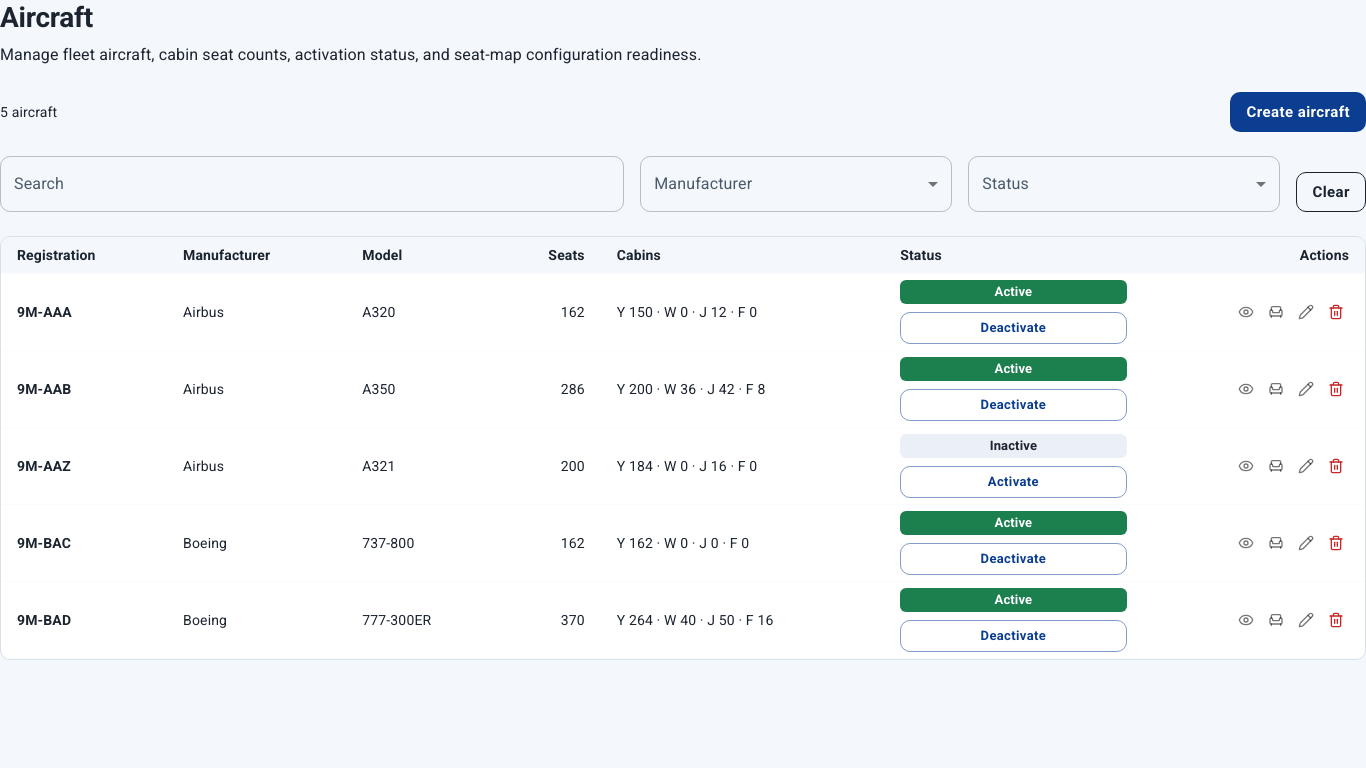
Scenario: AdminAircraftPage › edits an aircraft and can cancel the dialog
The image size is (1366, 768).
Check: the text "9M-AAA" is shown, box 17,304 -> 72,320
Click the button named "Edit 9M-AAA" at (1306, 312), box 1293,299 -> 1319,325
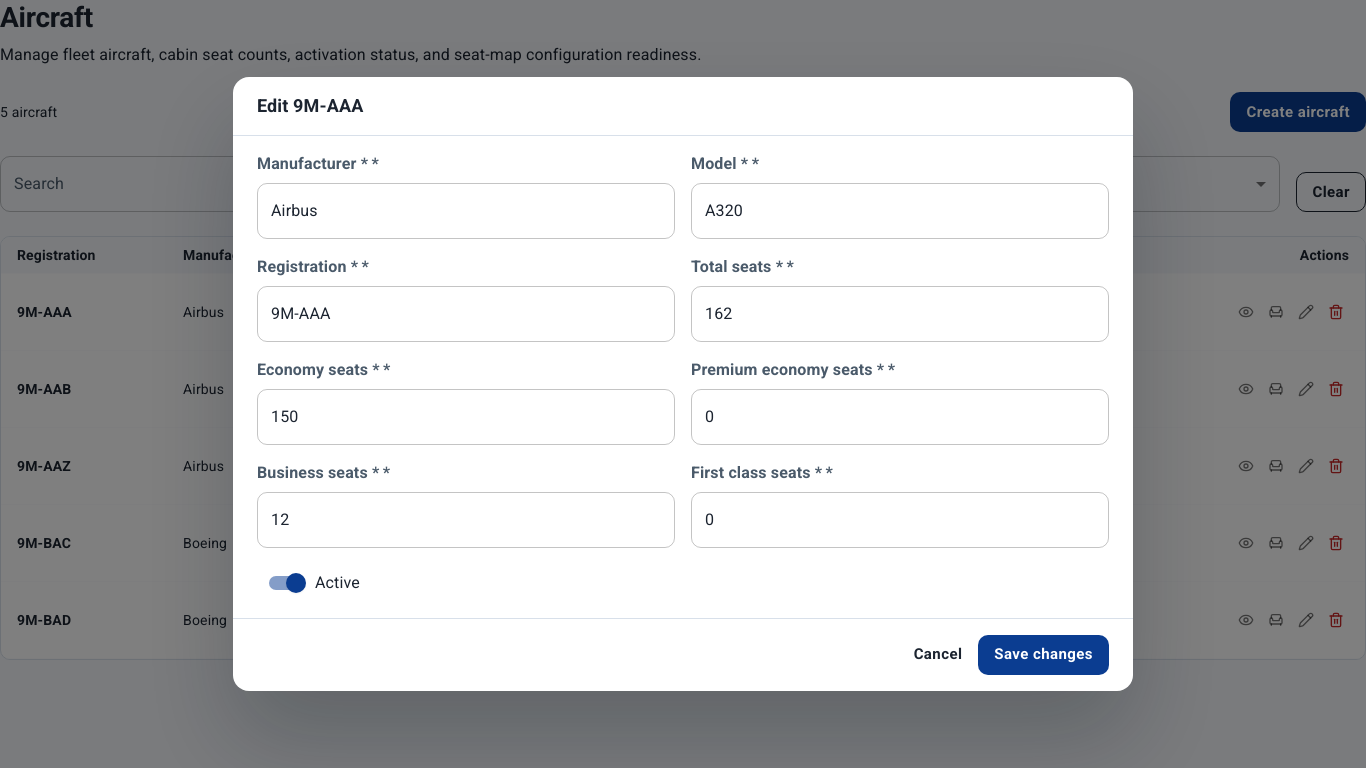
Check: the heading "Edit 9M-AAA" is shown, box 257,95 -> 363,116
Type "A320neo" into the field with placeholder "A320" at (900, 211), box 691,183 -> 1109,239
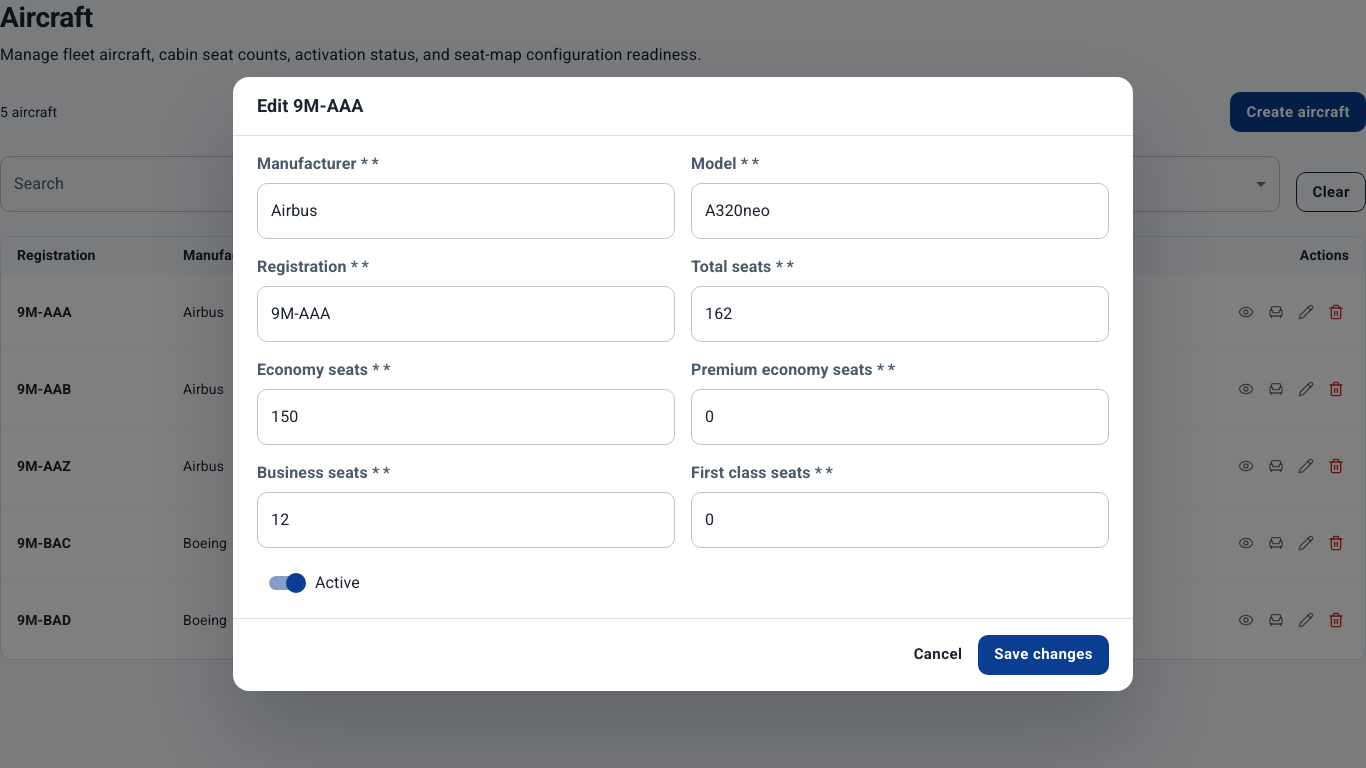
Click the button "Save changes" at (1044, 655), box 978,635 -> 1109,675
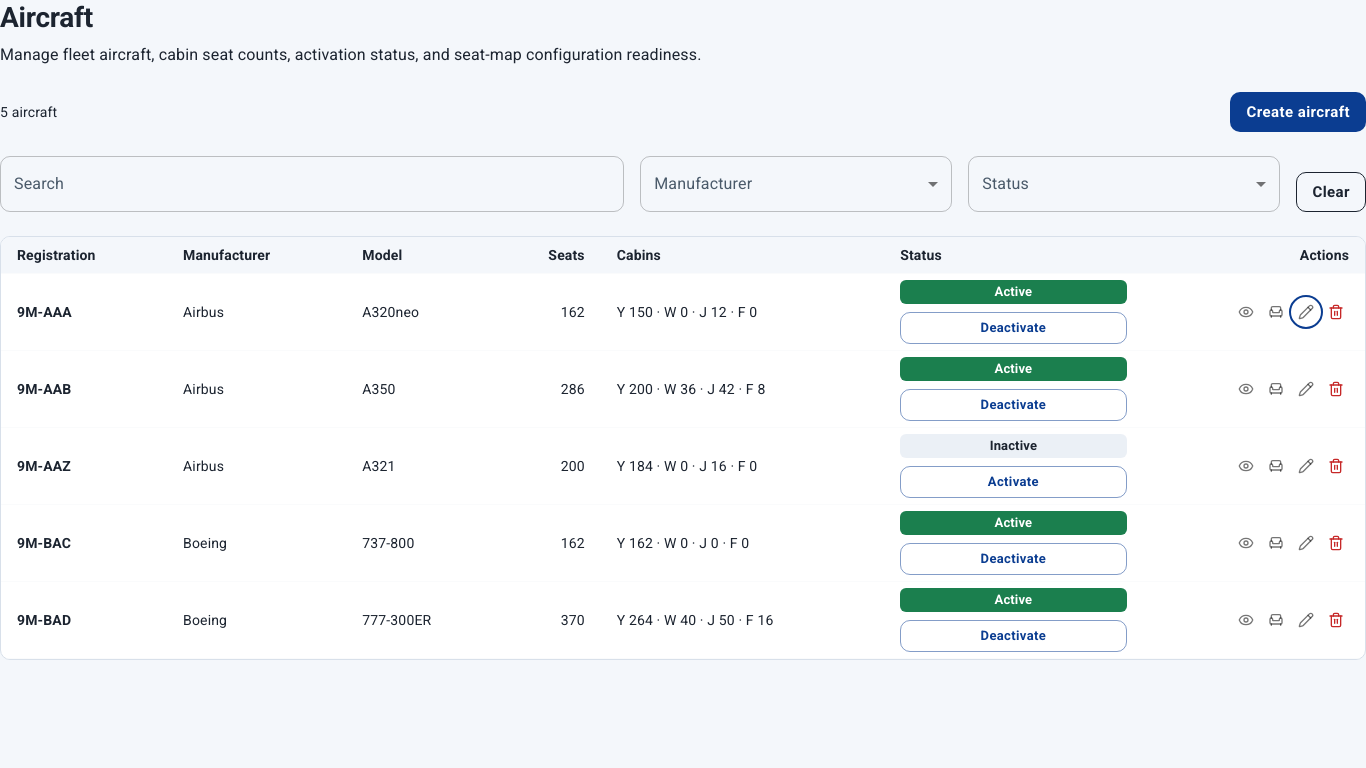
Check: the dialog is gone
Click the button named "Edit 9M-AAA" at (1306, 312), box 1293,299 -> 1319,325
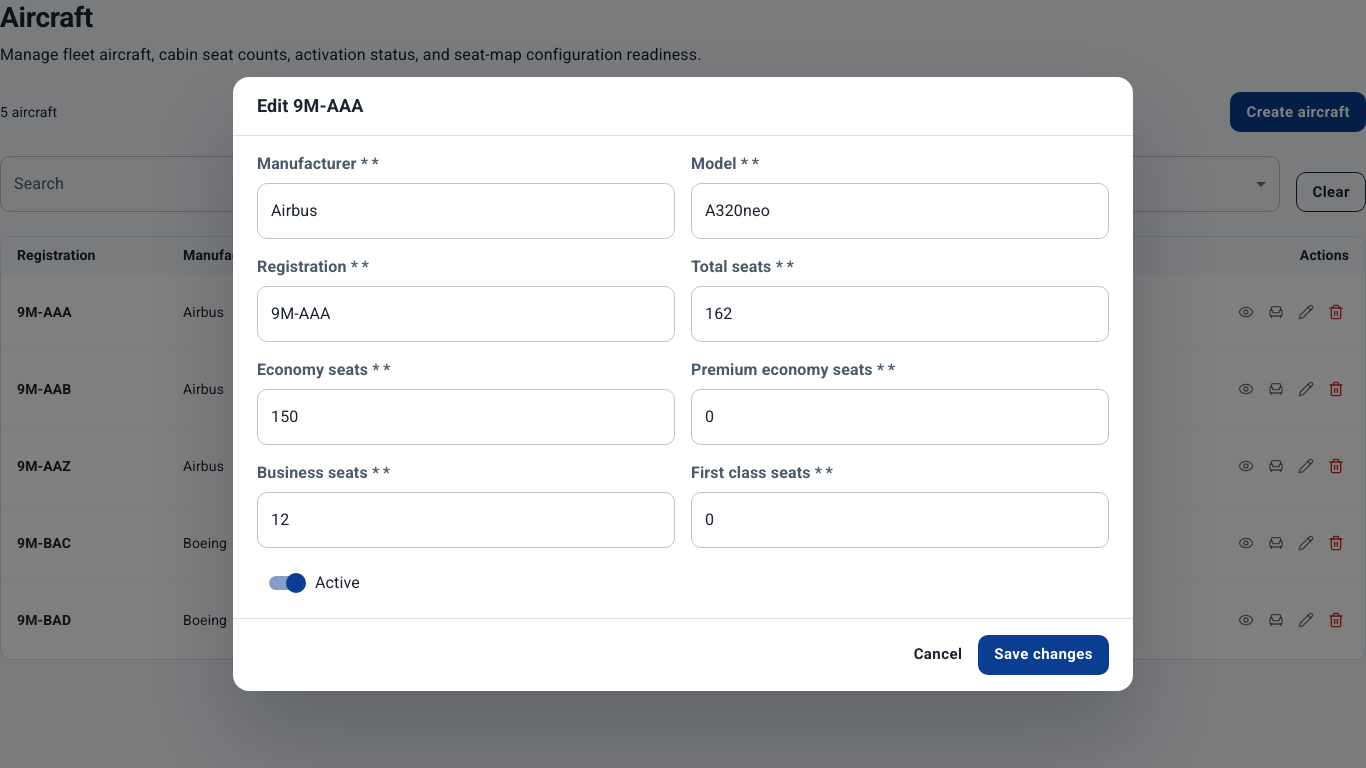
Check: the heading "Edit 9M-AAA" is shown, box 257,95 -> 363,116
Click the button "Cancel" at (938, 655), box 906,635 -> 970,675
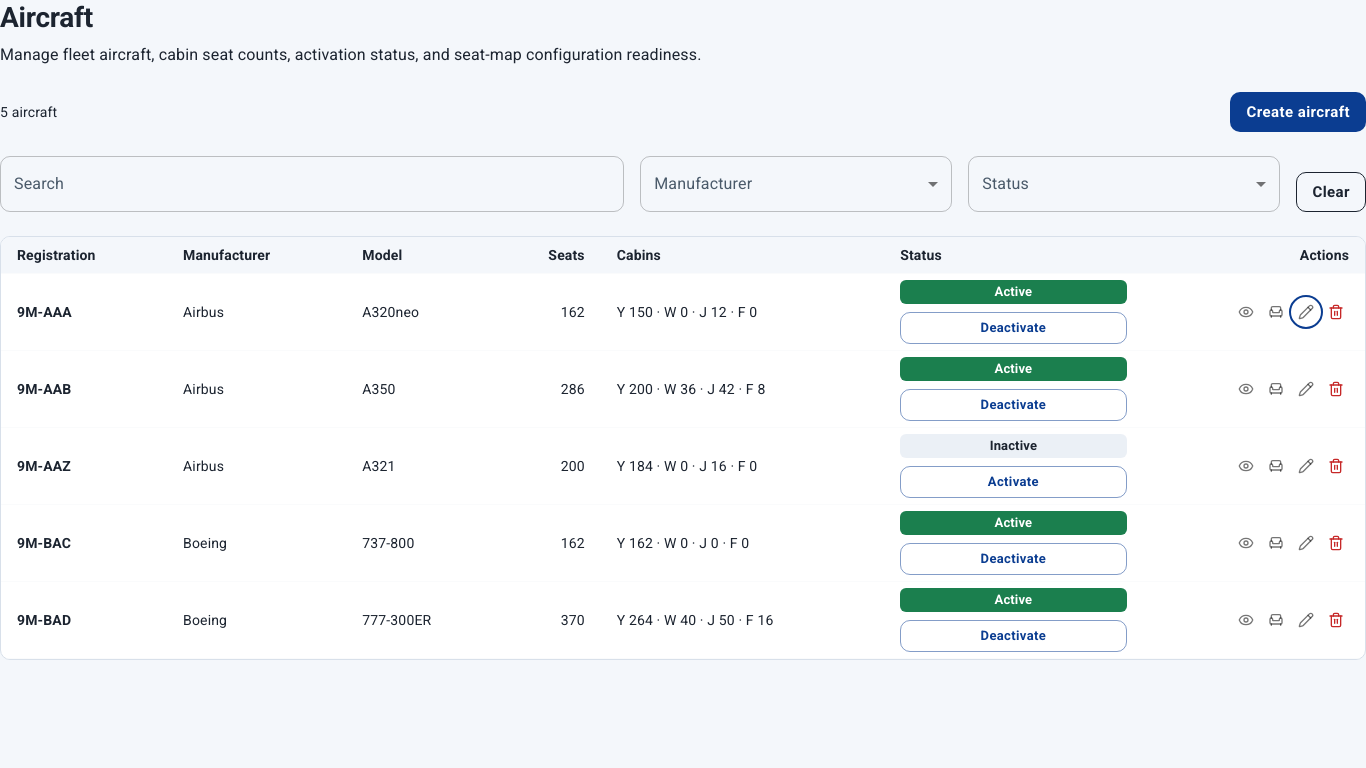
Check: the dialog is gone
